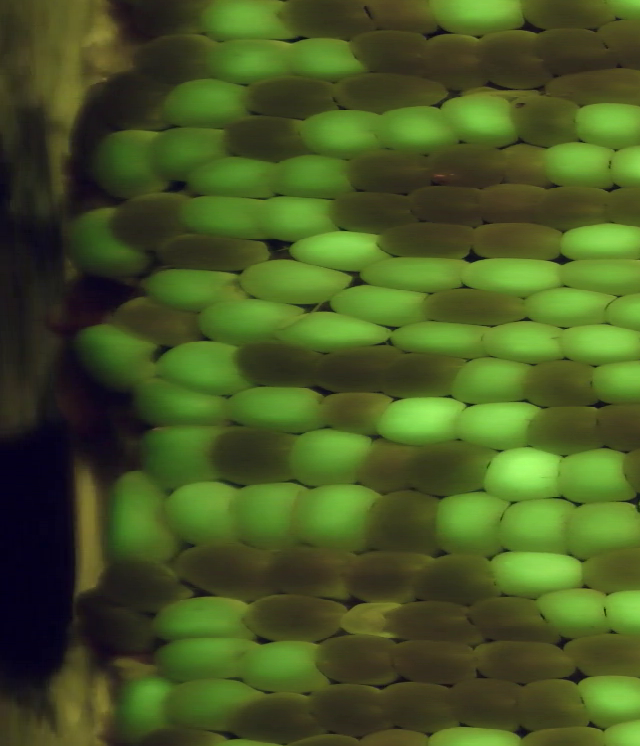fluorescent: (96, 467, 188, 565), (60, 202, 160, 280), (69, 319, 163, 401), (152, 675, 271, 737), (158, 478, 251, 557), (220, 476, 312, 554), (216, 381, 333, 442), (232, 633, 340, 699), (288, 482, 388, 553), (151, 337, 261, 401), (136, 420, 227, 496), (120, 375, 237, 434), (232, 255, 362, 307), (192, 295, 314, 350), (89, 126, 173, 204), (280, 423, 375, 490), (428, 486, 515, 559), (144, 591, 266, 643), (268, 307, 399, 355), (148, 635, 273, 684), (280, 225, 397, 277), (550, 444, 640, 511), (140, 122, 232, 187), (175, 188, 279, 245), (367, 100, 467, 159), (323, 281, 443, 330), (484, 548, 589, 604), (448, 395, 549, 453), (478, 443, 568, 508), (371, 394, 476, 449), (134, 263, 256, 310), (292, 105, 392, 162), (439, 88, 523, 155), (490, 494, 579, 557), (446, 354, 546, 410), (355, 252, 473, 299), (156, 72, 258, 126), (181, 152, 286, 204), (473, 317, 572, 370), (558, 498, 640, 559), (202, 35, 298, 87), (277, 33, 373, 85), (458, 255, 569, 299), (109, 674, 184, 739), (194, 1, 307, 44), (533, 585, 613, 645), (250, 191, 349, 239), (383, 319, 497, 360), (268, 151, 361, 201), (518, 288, 623, 331), (540, 137, 619, 194), (422, 1, 536, 40), (569, 669, 640, 731), (552, 218, 640, 266), (555, 323, 640, 370), (554, 255, 640, 299), (570, 99, 640, 151), (586, 356, 640, 410), (421, 721, 535, 746), (596, 582, 640, 642), (603, 141, 640, 195), (599, 289, 640, 336), (594, 711, 640, 746), (597, 1, 640, 24)
nonfluorescent: (69, 583, 163, 660), (233, 587, 354, 646), (169, 538, 277, 604), (203, 424, 308, 490), (357, 483, 447, 560), (260, 539, 361, 606), (400, 438, 505, 502), (373, 593, 488, 651), (469, 629, 582, 688), (305, 341, 410, 402), (143, 229, 279, 276), (221, 688, 329, 746), (329, 66, 453, 116), (98, 188, 198, 250), (338, 546, 439, 607), (215, 109, 316, 169), (306, 630, 407, 690), (227, 337, 333, 394), (304, 676, 395, 742), (106, 291, 211, 348), (412, 546, 506, 608), (336, 143, 443, 197), (88, 557, 195, 611), (417, 284, 537, 332), (441, 672, 531, 736), (124, 29, 225, 86), (472, 24, 555, 93), (460, 215, 569, 267), (234, 72, 347, 122), (464, 590, 564, 646), (371, 677, 470, 733), (384, 634, 483, 688), (416, 27, 493, 96), (519, 402, 607, 462), (373, 350, 474, 402), (94, 69, 177, 132), (353, 431, 427, 501), (511, 675, 605, 730), (325, 183, 420, 237), (505, 88, 588, 149), (531, 22, 625, 74), (545, 63, 640, 114), (519, 358, 610, 411), (274, 1, 382, 45), (343, 26, 435, 77), (370, 222, 481, 264), (419, 139, 510, 189), (312, 387, 401, 438), (92, 401, 154, 473), (530, 181, 617, 230), (558, 629, 640, 679), (402, 182, 490, 227), (474, 178, 553, 228), (107, 1, 196, 43), (360, 1, 451, 37), (499, 138, 557, 190), (595, 396, 640, 457), (592, 16, 640, 73), (510, 722, 619, 746), (597, 180, 640, 232)
